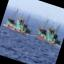fishing boat: (0, 3, 37, 40), (31, 13, 64, 49)
